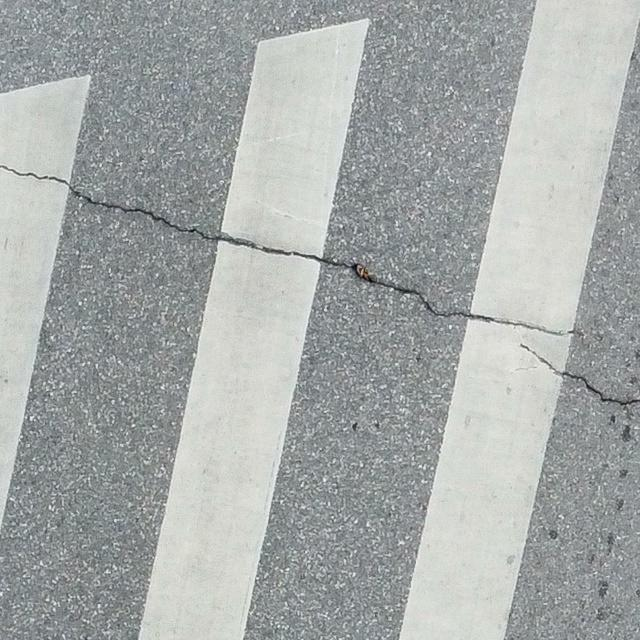TransverseCrack: (1, 163, 583, 339), (519, 341, 640, 407)
